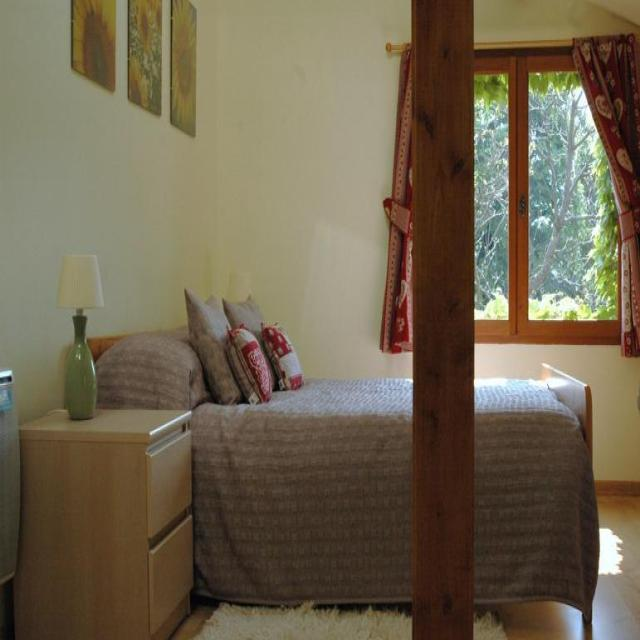carpet: (189, 600, 507, 639)
cupboard: (12, 405, 194, 637)
curtains: (570, 31, 639, 356)
lamps: (56, 252, 104, 420)
pillows: (260, 320, 304, 390)
sofa: (88, 319, 598, 625)
window: (472, 42, 622, 344)
